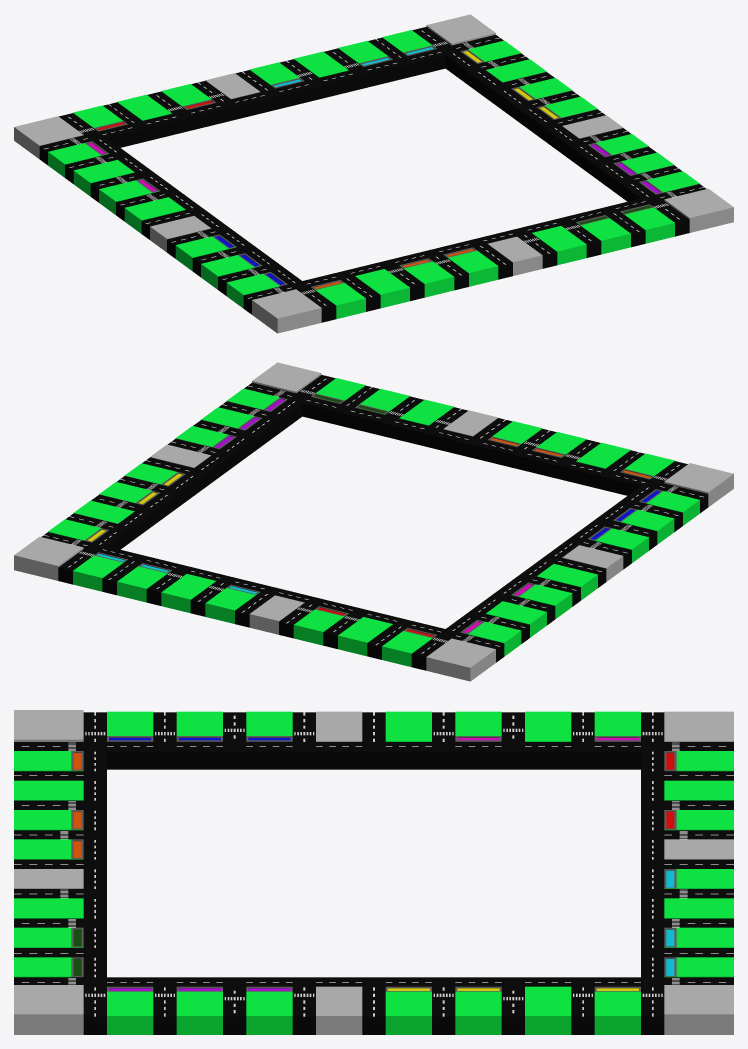
File: Board.fbx
The picture shows the model from 3 angles, top to bottom: view 1: azimuth 30°, elevation 25°; view 2: azimuth 150°, elevation 25°; view 3: azimuth 270°, elevation 25°; orthographic projection. The views are drawn at different scales.
Visible parts, largest first — view 1: Roads, 28, 19, 1, 10, 25, 21, 26, 20, 22, 24, 27 (+25 smaller); view 2: Roads, 1, 10, 28, 19, 4, 3, 8, 2, 5, 7, 9 (+25 smaller); view 3: Roads, 10, 19, 13, 16, 11, 12, 14, 15, 17, 18, 28 (+25 smaller).
Part boxes in pixels (x1,y1,x2,y2): Roads: (39,27,706,322); 28: (252,289,321,333); 19: (664,188,733,232); 1: (14,116,83,158); 10: (426,14,495,45); 25: (399,258,454,297); 21: (576,215,630,254); 26: (355,269,409,308); 20: (620,204,674,243); 22: (532,226,586,265); 24: (443,247,498,286); 27: (311,279,365,318); Roads: (41,375,708,670); 1: (426,638,495,681); 10: (14,536,83,580); 28: (664,463,733,506); 19: (252,362,321,393); 4: (293,606,348,645); 3: (338,617,392,656); 8: (117,563,171,602); 2: (382,627,436,666); 5: (249,595,304,634); 7: (161,574,215,613); 9: (73,552,127,591); Roads: (14,712,733,1034); 10: (664,985,733,1034); 19: (14,985,83,1034); 13: (455,986,501,1034); 16: (246,986,292,1034); 11: (594,986,640,1034); 12: (525,986,571,1034); 14: (385,986,431,1034); 15: (316,986,362,1034); 17: (176,986,222,1034); 18: (107,986,153,1034); 28: (14,710,83,741).
Size of the model in its own units: 3100 by 96.93 by 3100.
